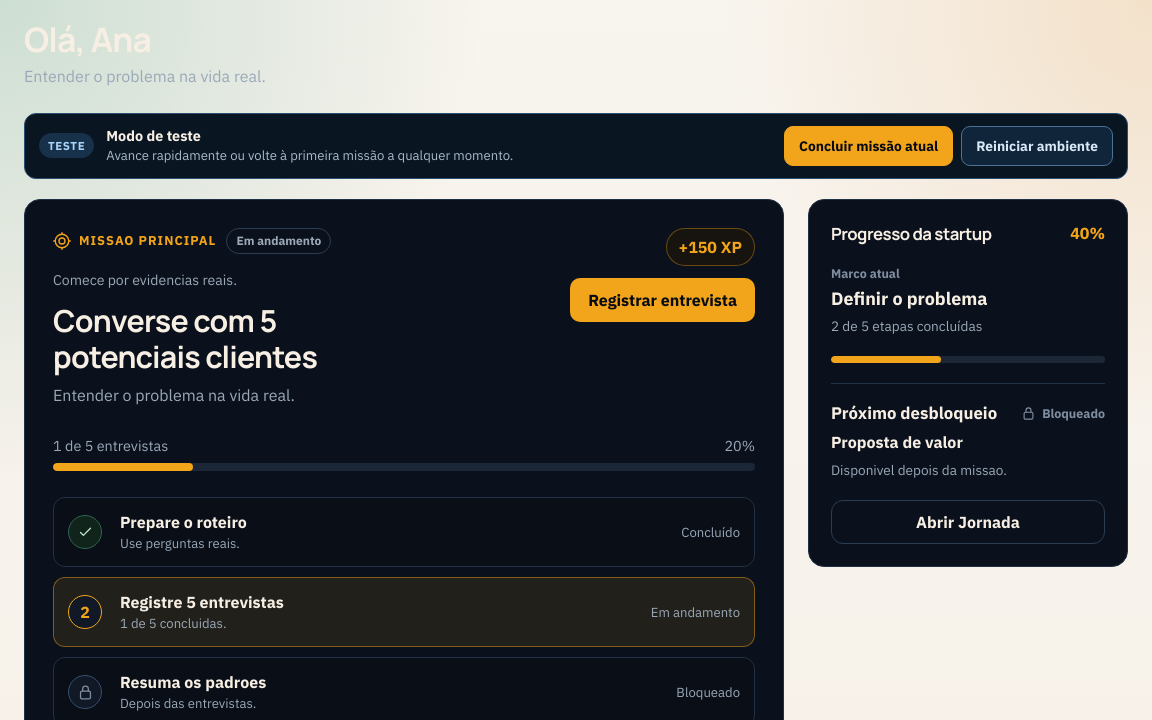
Scenario: StartupHomeScreen › resets the workspace, clears only its drafts and reconciles the shell
What coordinates should you click on to do the following:
click the button "Reiniciar ambiente"
I would click on:
 (1037, 146)
Its box is x1=961 y1=126 x2=1113 y2=166.
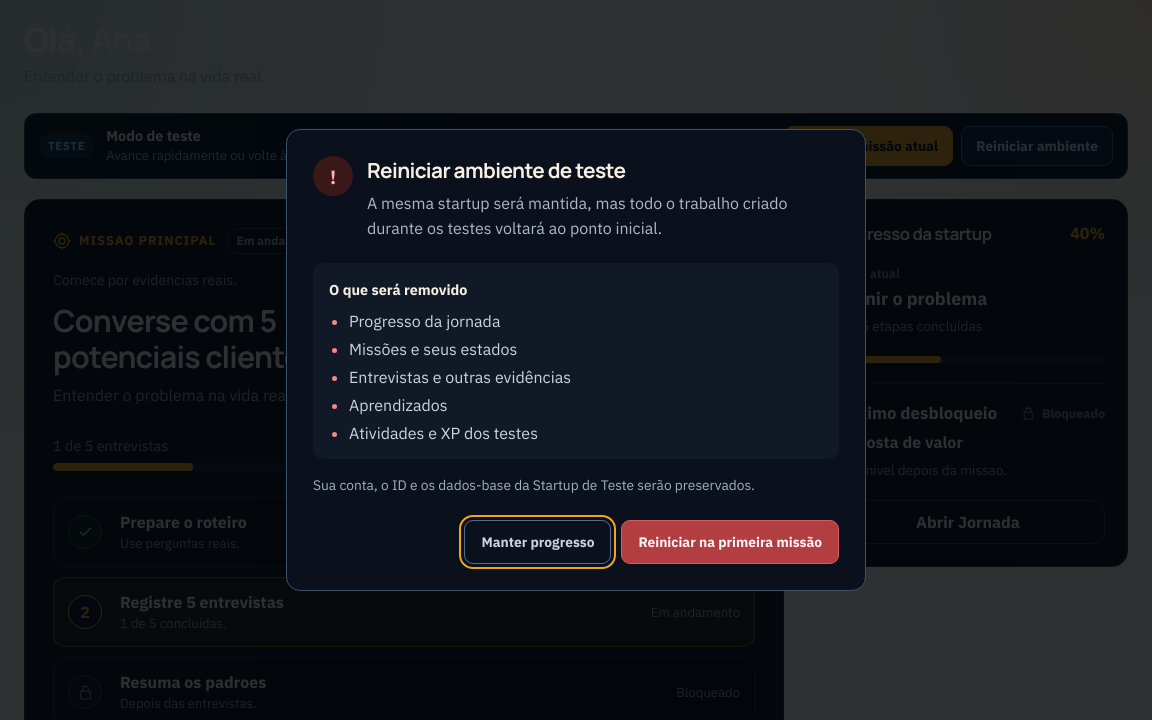
What coordinates should you click on to do the following:
click the button "Reiniciar na primeira missão"
I would click on:
 (730, 542)
Its box is x1=621 y1=520 x2=839 y2=564.
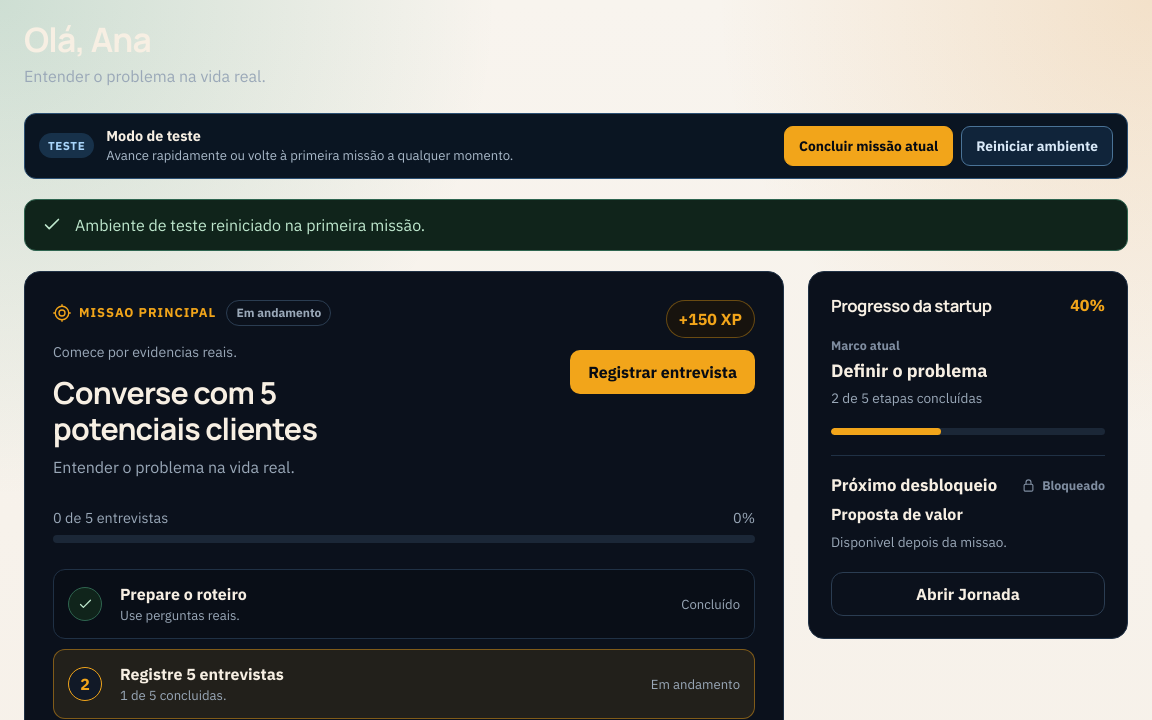
Check: the text "Ambiente de teste reiniciado na primeira missão." is shown, box x1=75 y1=215 x2=425 y2=235
Check: the heading "Reiniciar ambiente de teste" is gone
